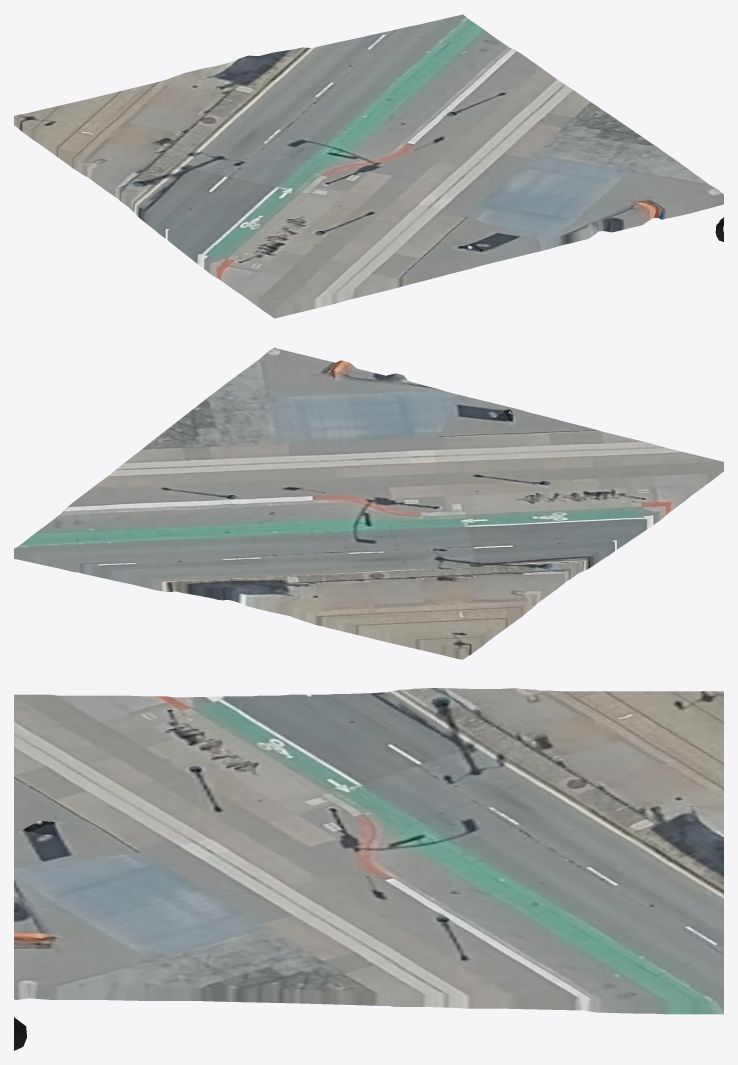
The model's file is z20-167774-405199-h0-yup-uvflip-v3-world.glb.
3 renders of one model, top to bottom at view 1: azimuth 30°, elevation 25°; view 2: azimuth 150°, elevation 25°; view 3: azimuth 270°, elevation 25°, orthographic. The views are drawn at different scales.
Bounding box in the file's own units: 30.16 × 3.28 × 30.32.
1 material, 1 textured.
